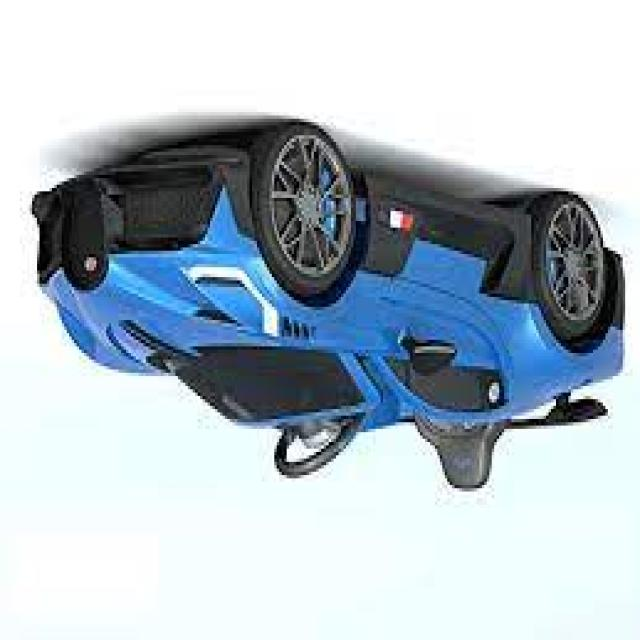Car: (30, 122, 625, 495)
